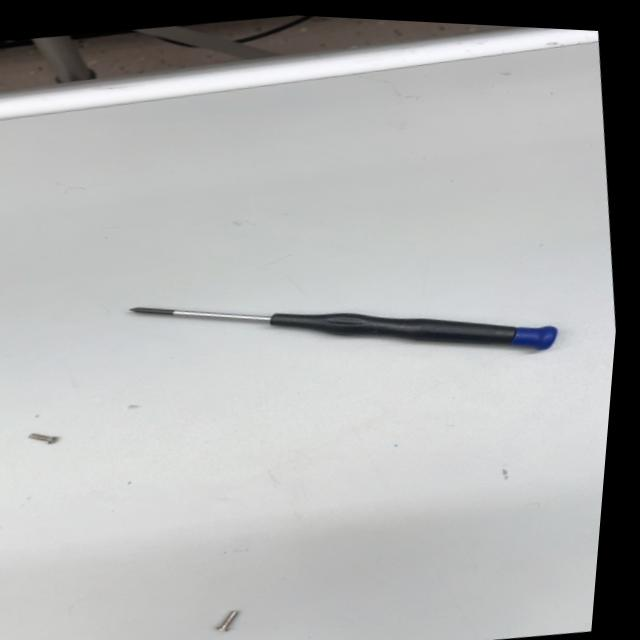screw: (206, 605, 250, 640), (23, 425, 65, 454)
screw_driver: (112, 243, 571, 415)
